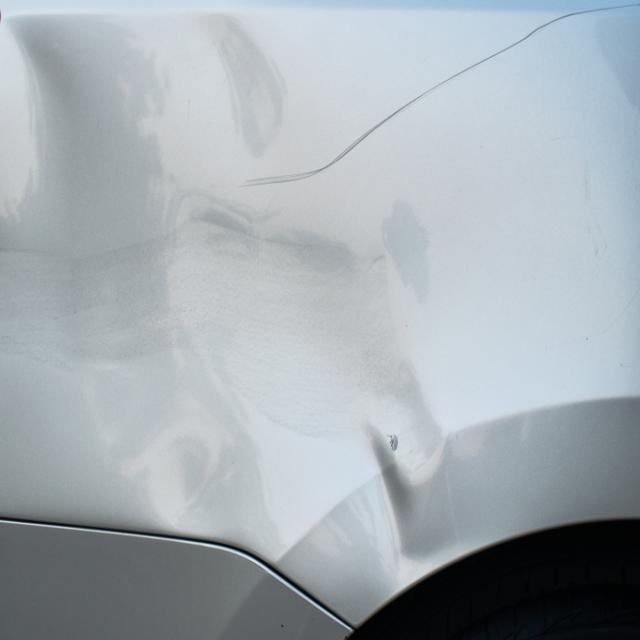Cabossage: (178, 185, 426, 424), (0, 4, 134, 254), (344, 412, 464, 601), (138, 415, 256, 558)
